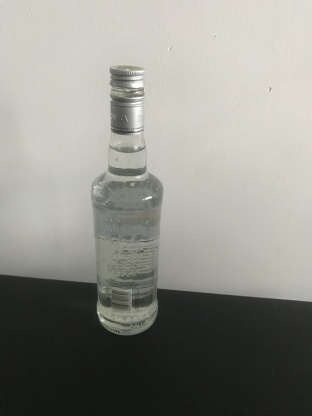nakretka: (109, 64, 146, 136)
